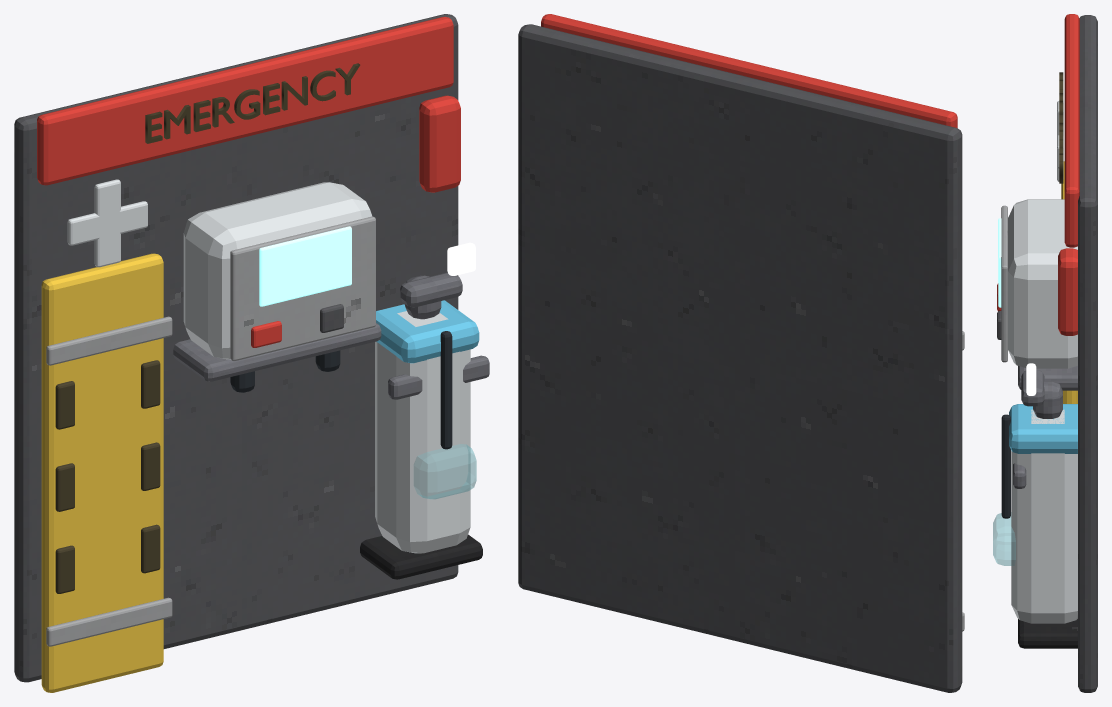
File: decor_med_crash_station.glb
The picture shows the model from 3 angles, left to right: view 1: azimuth 30°, elevation 25°; view 2: azimuth 150°, elevation 25°; view 3: azimuth 270°, elevation 25°; orthographic projection. The views are drawn at different scales.
Visible parts, largest first — view 1: DEC_MedCrashStation__Back_Plate, DEC_MedCrashStation__Backboard, DEC_MedCrashStation__Hazard_Header, DEC_MedCrashStation__O2_Bottle, DEC_MedCrashStation__Defib_Body, DEC_MedCrashStation__Defib_Face, DEC_MedCrashStation__Defib_Screen, DEC_MedCrashStation__Pull_Handle, DEC_MedCrashStation__Hazard_Text, DEC_MedCrashStation__O2_Collar, DEC_MedCrashStation__Defib_Shelf, DEC_MedCrashStation__O2_Cradle (+15 smaller); view 2: DEC_MedCrashStation__Back_Plate, DEC_MedCrashStation__Hazard_Header; view 3: DEC_MedCrashStation__Back_Plate, DEC_MedCrashStation__O2_Bottle, DEC_MedCrashStation__Defib_Body, DEC_MedCrashStation__Hazard_Header, DEC_MedCrashStation__O2_Collar, DEC_MedCrashStation__Pull_Handle, DEC_MedCrashStation__O2_Cradle, DEC_MedCrashStation__Defib_Face, DEC_MedCrashStation__O2_Mask, DEC_MedCrashStation__O2_Hose, DEC_MedCrashStation__O2_Neck, DEC_MedCrashStation__Defib_Shelf (+7 smaller).
Part boxes in pixels (x1,y1,x2,y2): DEC_MedCrashStation__Back_Plate: [14, 14, 458, 682]; DEC_MedCrashStation__Backboard: [41, 253, 163, 692]; DEC_MedCrashStation__Hazard_Header: [37, 16, 453, 185]; DEC_MedCrashStation__O2_Bottle: [375, 311, 470, 553]; DEC_MedCrashStation__Defib_Body: [183, 182, 372, 359]; DEC_MedCrashStation__Defib_Face: [230, 216, 375, 361]; DEC_MedCrashStation__Defib_Screen: [259, 226, 351, 306]; DEC_MedCrashStation__Pull_Handle: [419, 95, 460, 192]; DEC_MedCrashStation__Hazard_Text: [145, 63, 360, 143]; DEC_MedCrashStation__O2_Collar: [376, 300, 479, 363]; DEC_MedCrashStation__Defib_Shelf: [173, 323, 381, 381]; DEC_MedCrashStation__O2_Cradle: [360, 534, 482, 579]; DEC_MedCrashStation__Back_Plate: [518, 24, 962, 692]; DEC_MedCrashStation__Hazard_Header: [541, 14, 957, 127]; DEC_MedCrashStation__Back_Plate: [1078, 15, 1097, 692]; DEC_MedCrashStation__O2_Bottle: [1011, 409, 1077, 623]; DEC_MedCrashStation__Defib_Body: [1008, 199, 1077, 368]; DEC_MedCrashStation__Hazard_Header: [1064, 14, 1079, 247]; DEC_MedCrashStation__O2_Collar: [1009, 404, 1077, 453]; DEC_MedCrashStation__Pull_Handle: [1058, 248, 1077, 335]; DEC_MedCrashStation__O2_Cradle: [1018, 619, 1077, 648]; DEC_MedCrashStation__Defib_Face: [1001, 205, 1007, 362]; DEC_MedCrashStation__O2_Mask: [993, 512, 1015, 565]; DEC_MedCrashStation__O2_Hose: [1001, 414, 1010, 518]; DEC_MedCrashStation__O2_Neck: [1033, 381, 1062, 418]; DEC_MedCrashStation__Defib_Shelf: [1018, 366, 1077, 390].
Size of the model in its own units: 1.34 by 1.68 by 0.315.
Materials: 13 (4 with a texture image).
